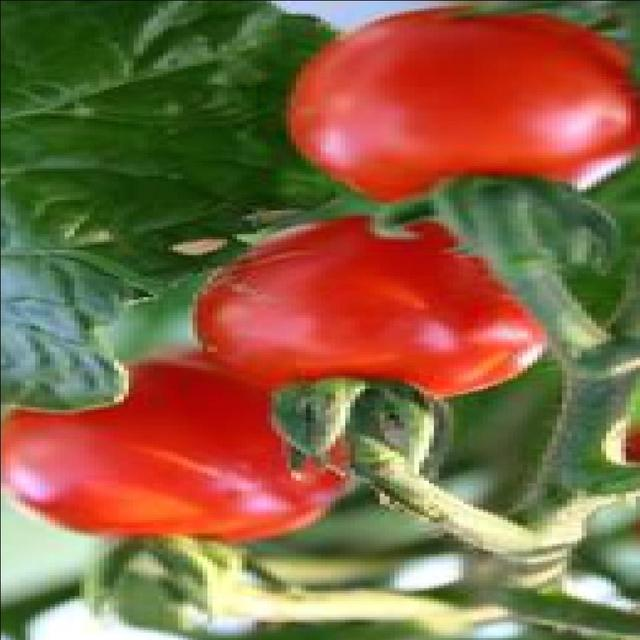Healthy Fruit: (122, 73, 313, 309)
